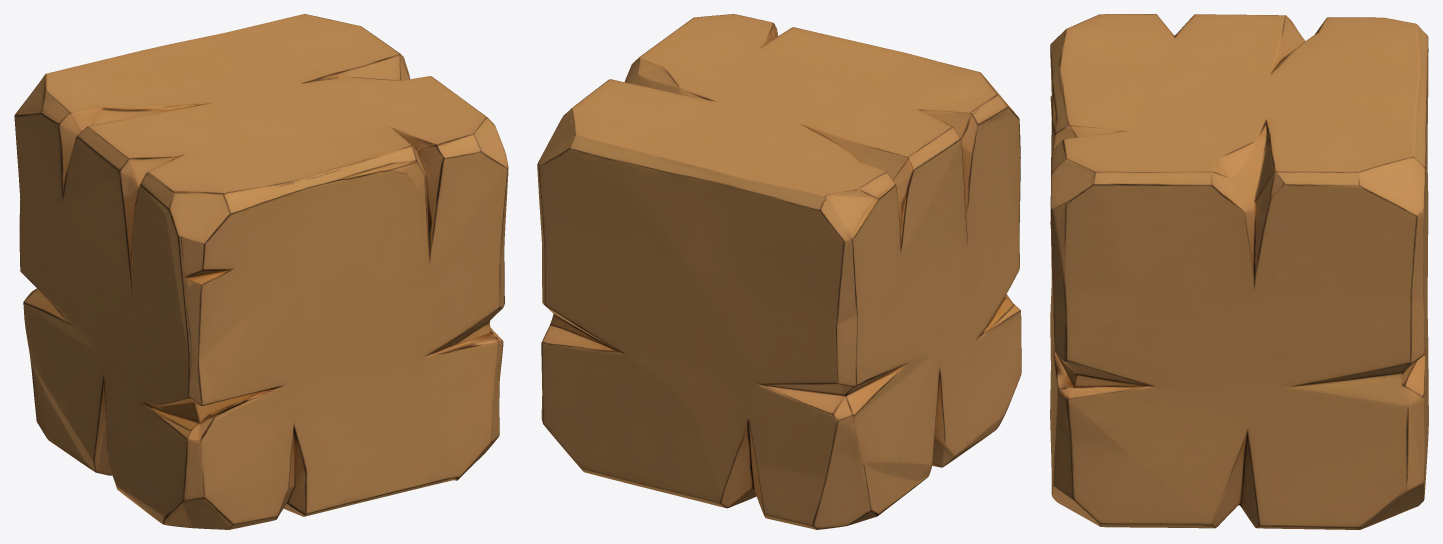
The model's file is prop_boulder.glb.
The picture shows the model from 3 angles, left to right: view 1: azimuth 30°, elevation 25°; view 2: azimuth 150°, elevation 25°; view 3: azimuth 270°, elevation 25°; orthographic projection. The views are drawn at different scales.
Visible parts, largest first — view 1: material; view 2: material; view 3: material.
Boxes of the visible parts, left/top/right/bottom form: material: left=14, top=14, right=508, bottom=529; material: left=537, top=14, right=1021, bottom=529; material: left=1050, top=14, right=1428, bottom=529.
Bounding box in the file's own units: 0.7682 × 0.767 × 0.735.
1 material, 1 textured.
